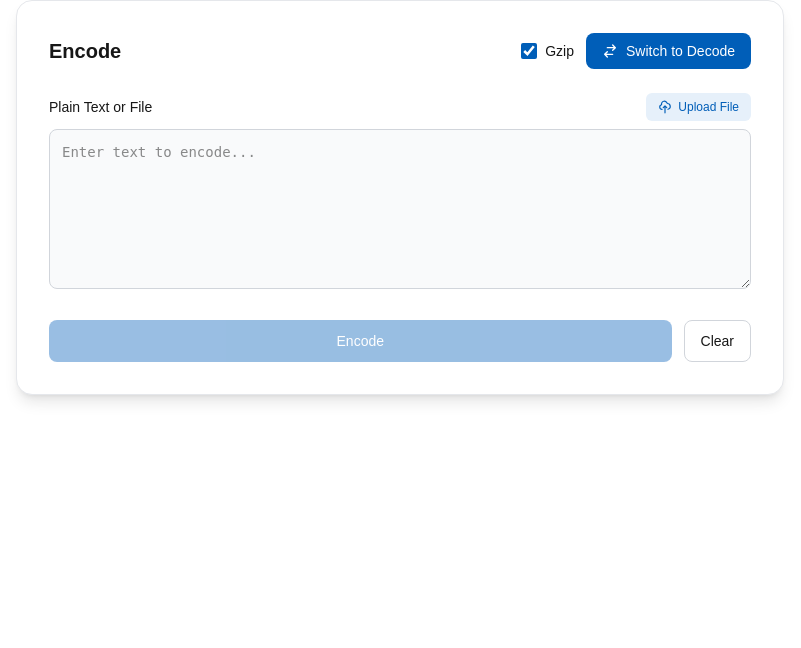
Test case: EncoderDecoder › shows output after successful encode
Type "Hello" into the text box with placeholder "Enter text to encode..." at (400, 209), box x1=49 y1=129 x2=751 y2=289
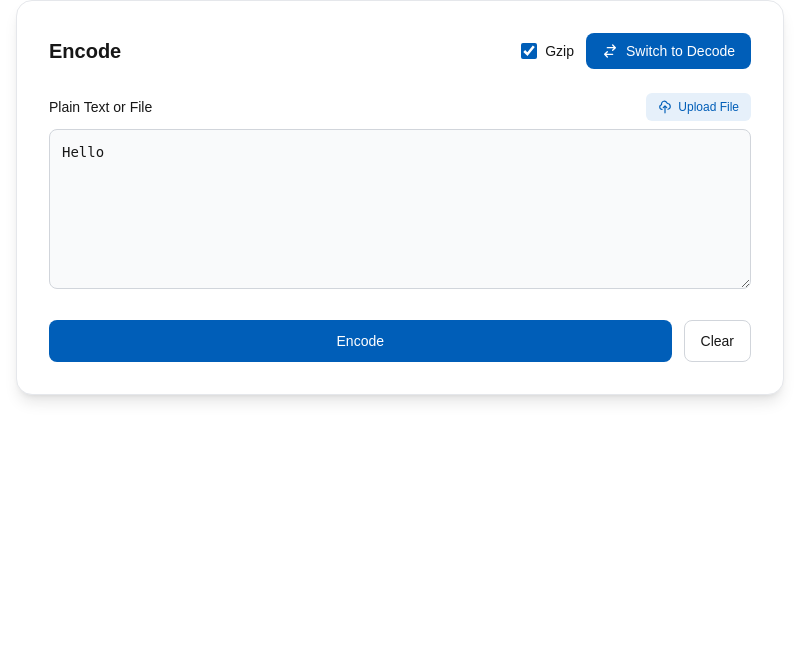
Click the button "Encode" at (360, 341), box x1=49 y1=320 x2=672 y2=362
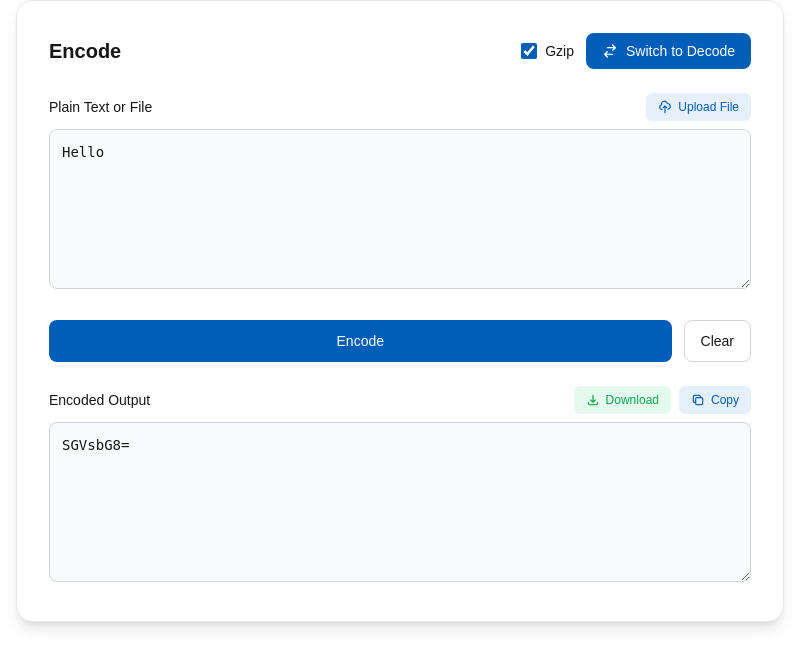
Check: the text box showing "SGVsbG8=" below "Encoded Output" is shown, box x1=49 y1=422 x2=751 y2=582
